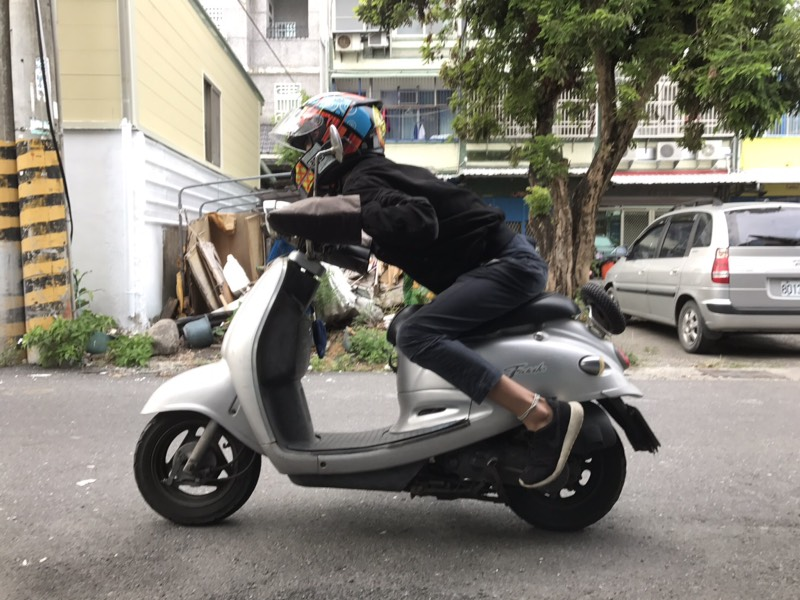helmet: (273, 100, 394, 170)
